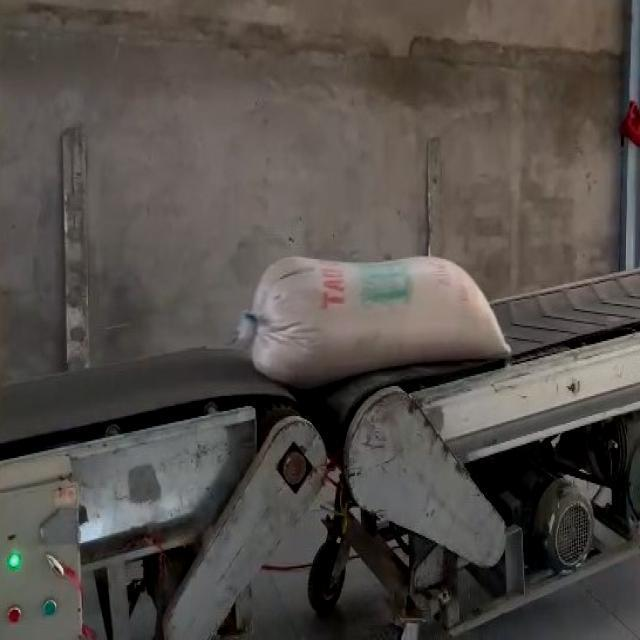gunny_bag: (243, 257, 511, 389)
